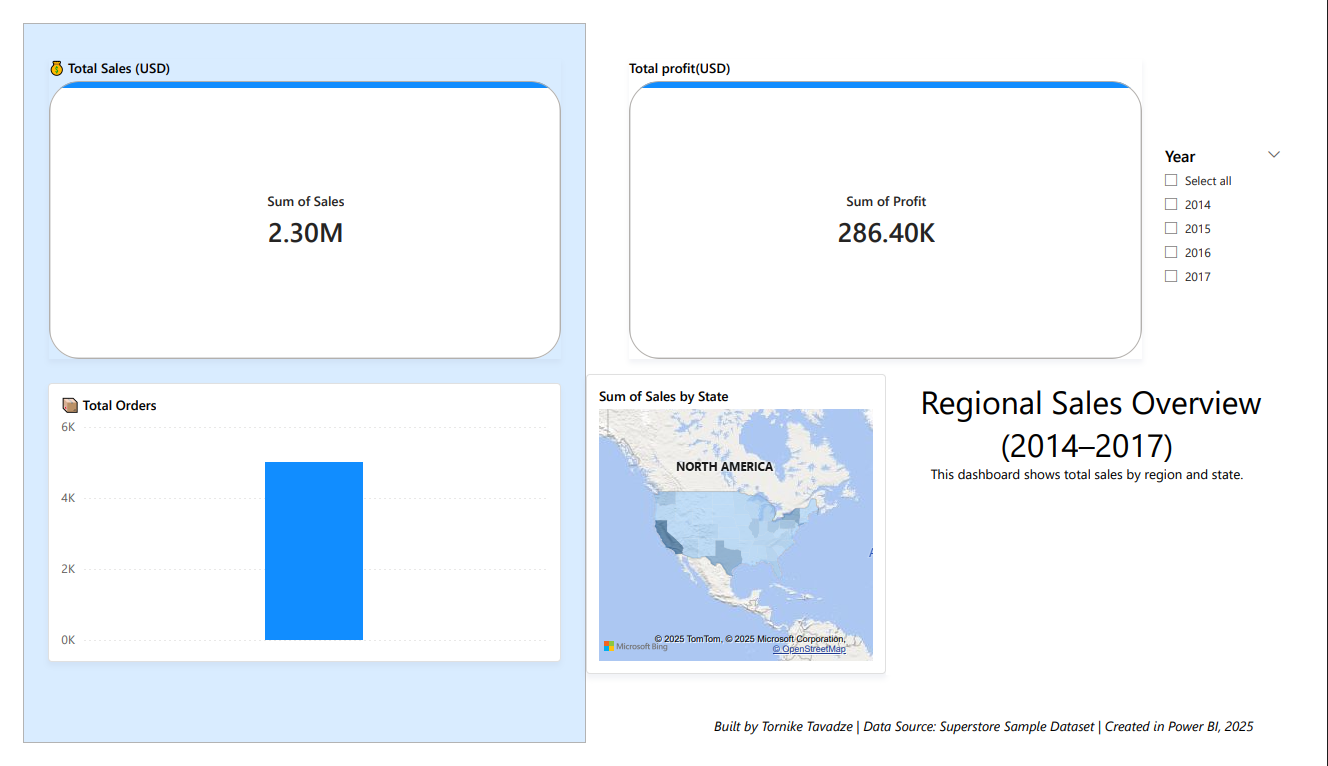

What the dashboard file says about the page in this screenshot:
{"tool":"powerbi","page":{"name":"Page 1","canvas":[1280,720],"ordinal":0},"visuals":[{"type":"shape","box":[0,0,563.1,720],"z":0},{"type":"cardVisual","title":"💰 Total Sales (USD)","fields":{"Data":["Sum(Sample - Superstore.Sales)"]},"box":[25.7,36.4,512.5,299.7],"z":1000},{"type":"cardVisual","title":"Total profit(USD)","fields":{"Data":["Sum(Sample - Superstore.Profit)"]},"box":[605.6,36.4,513.4,299.7],"z":2000},{"type":"columnChart","title":"📦 Total Orders","fields":{"Y":["Count(Sample - Superstore.Order ID)"]},"box":[24.8,360,513.4,279.3],"z":3000},{"type":"filledMap","fields":{"Category":["Sample - Superstore.State"]},"box":[563.1,351.1,299.7,299.7],"z":4000},{"type":"textbox","box":[862.8,351.1,402.6,300.6],"z":5000},{"type":"slicer","fields":{"Values":["Sample - Superstore.Order Date.Variation.Date Hierarchy.Year"]},"box":[1134.1,122.4,131.2,148.1],"z":6000},{"type":"textbox","box":[642,689,638.4,31],"z":7000}]}

Visuals, with their boxes in screenshot pixels (x1, y1, x2, y2), scaled from the page's 1280x720 canvas onto the 1328x766 screenshot:
shape: bbox=[0, 0, 584, 765]
"💰 Total Sales (USD)" cardVisual: bbox=[27, 39, 558, 358]
"Total profit(USD)" cardVisual: bbox=[628, 39, 1161, 358]
"📦 Total Orders" columnChart: bbox=[26, 383, 558, 680]
filledMap - Sample - Superstore.State: bbox=[584, 374, 895, 692]
textbox: bbox=[895, 374, 1313, 693]
slicer - Sample - Superstore.Order Date.Variation.Date Hierarchy.Year: bbox=[1177, 130, 1313, 288]
textbox: bbox=[666, 733, 1327, 765]
